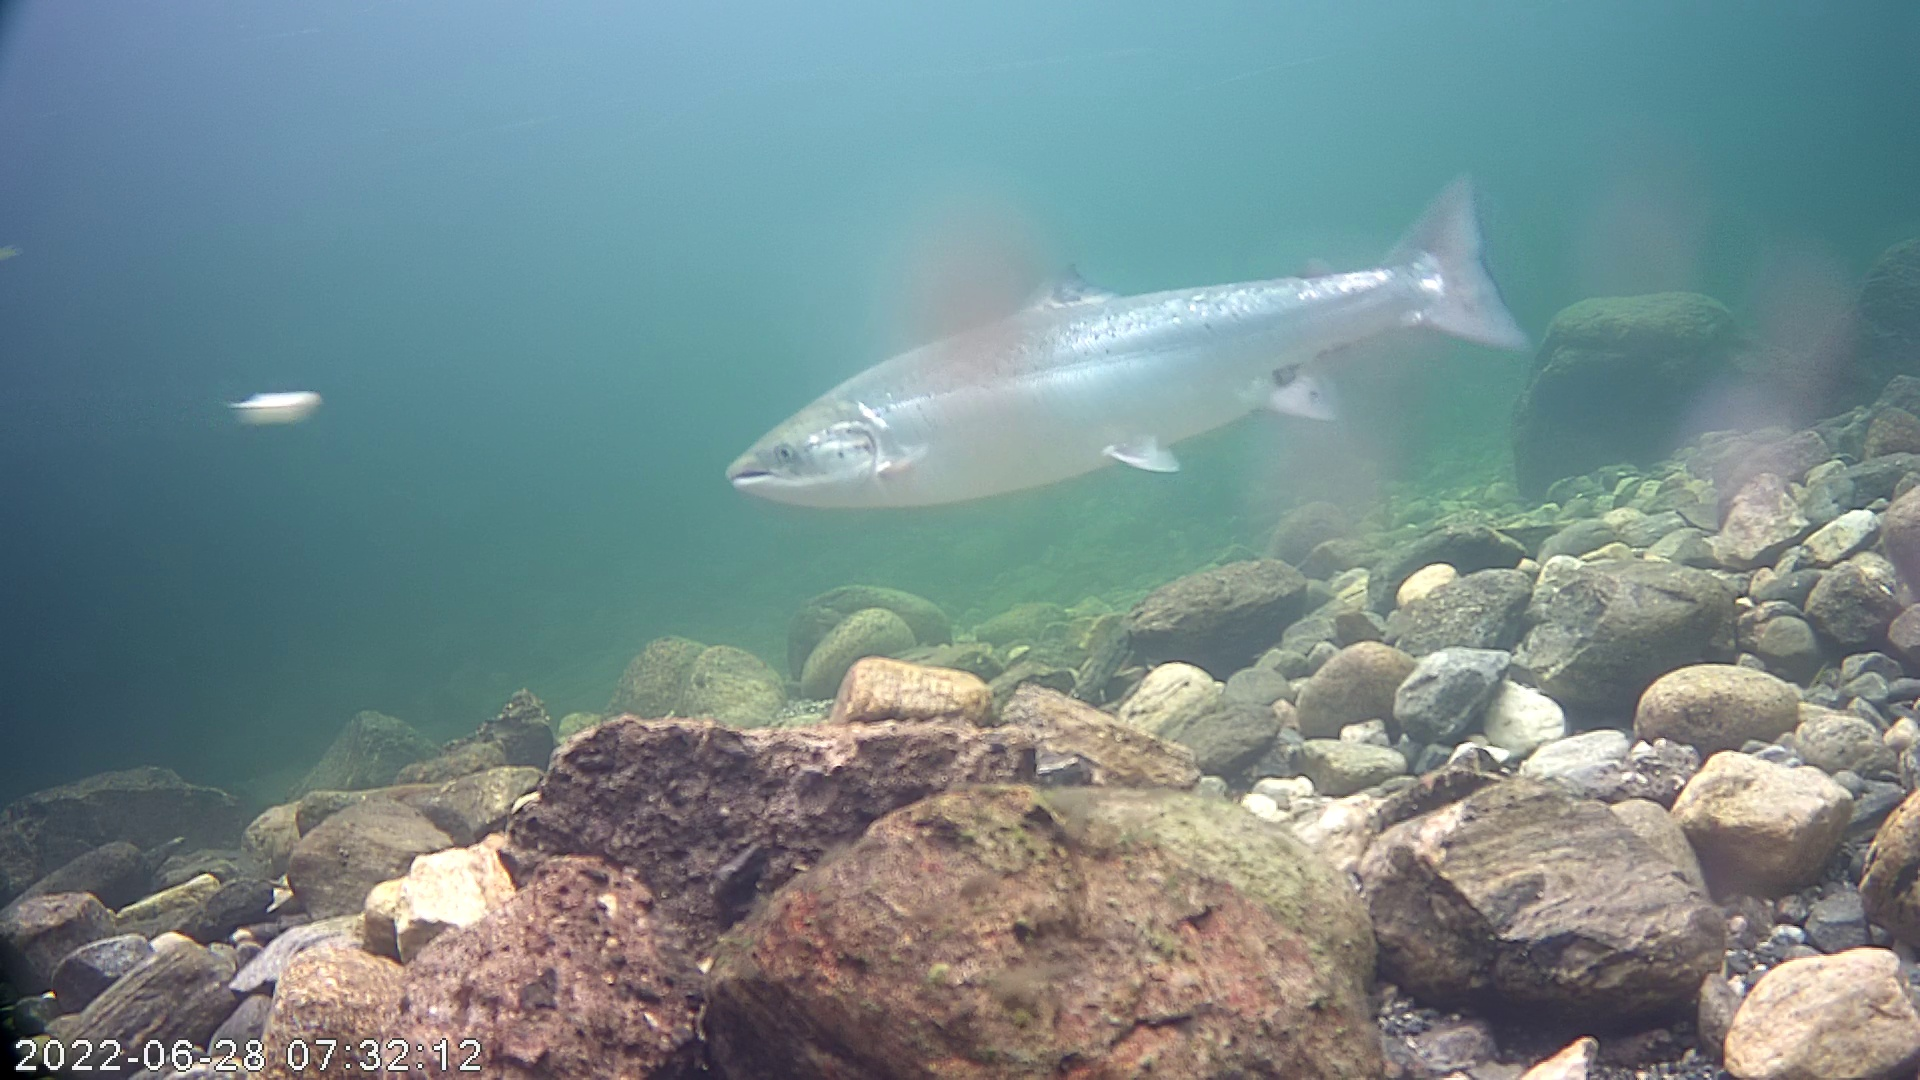salmon: (702, 121, 1571, 560)
